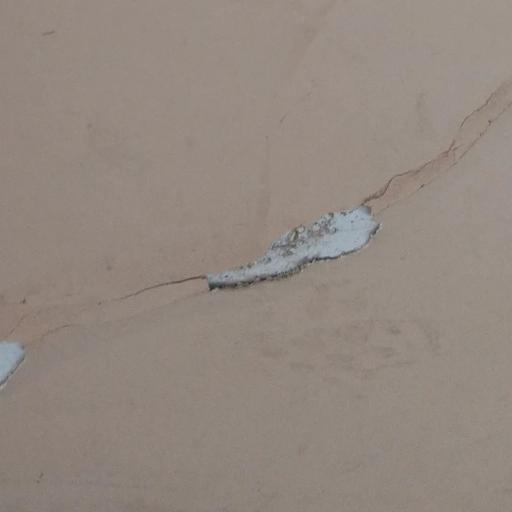peeling: (176, 182, 396, 320), (377, 76, 512, 227), (0, 318, 48, 398)
